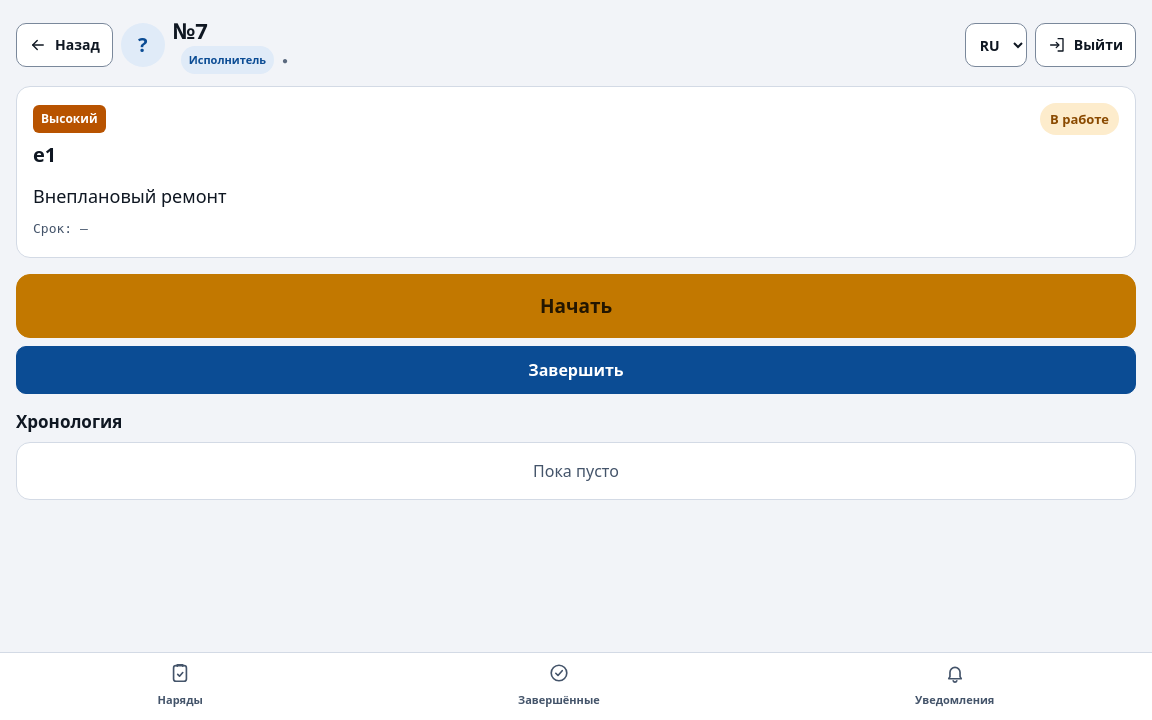
Test: WorkerOrder photos › warns unplanned orders without after-photo
The width and height of the screenshot is (1152, 720).
Click the button "Завершить": (576, 370) left=16, top=346, right=1136, bottom=394
(page scrolled)
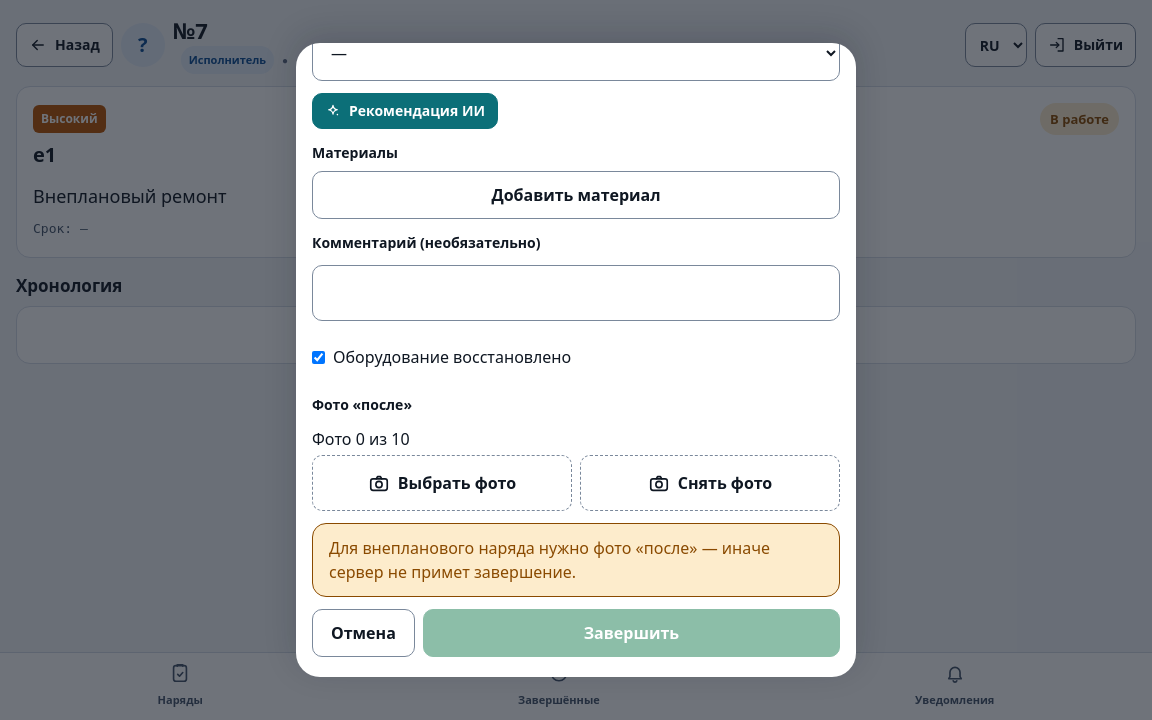
Expected: the text "иначе сервер не примет завершение" is shown, left=329, top=537, right=770, bottom=583
